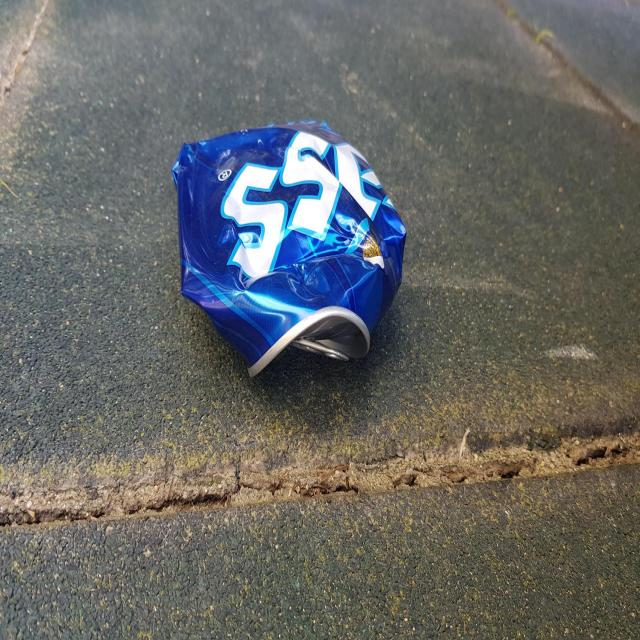can: (172, 120, 406, 376)
